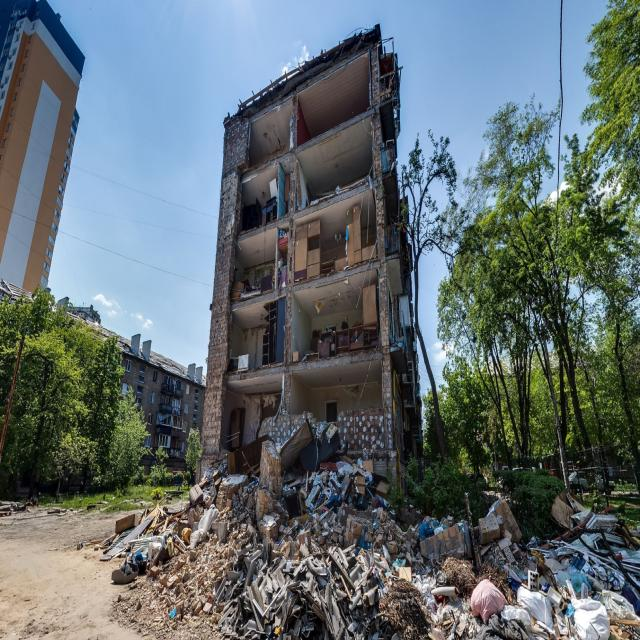building: (197, 33, 424, 502)
damage: (197, 33, 413, 502)
damaged_roof: (226, 11, 394, 118)
other: (0, 0, 640, 640), (0, 0, 226, 640), (198, 421, 396, 499)
roof: (226, 11, 394, 118)
